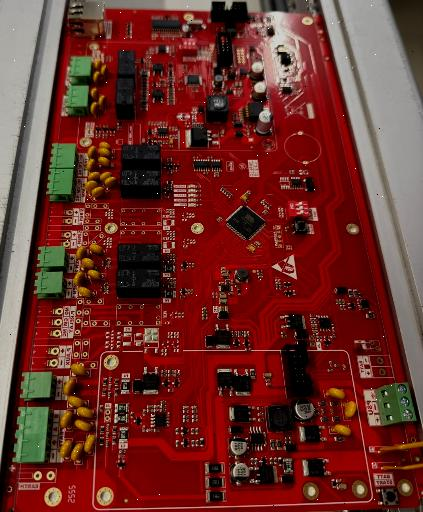var: (377, 437, 423, 454), (382, 459, 423, 472), (59, 439, 72, 459), (343, 401, 357, 419), (331, 424, 352, 436), (325, 388, 346, 400), (71, 442, 83, 462), (60, 410, 73, 428), (63, 379, 76, 396), (74, 419, 92, 431), (84, 434, 95, 453), (70, 363, 86, 376), (67, 396, 84, 408), (76, 407, 94, 418), (84, 180, 98, 194), (73, 271, 85, 286), (80, 258, 95, 270), (104, 176, 117, 189), (91, 187, 105, 199), (75, 246, 87, 260), (89, 244, 104, 255), (87, 269, 102, 280), (92, 71, 102, 87), (87, 171, 101, 182), (99, 172, 113, 183), (90, 101, 99, 118), (86, 158, 96, 173), (78, 287, 93, 297), (98, 148, 111, 159), (98, 95, 106, 112), (100, 65, 108, 82), (98, 157, 110, 168), (90, 87, 99, 101), (87, 145, 96, 159), (99, 142, 111, 152), (93, 59, 102, 69)
